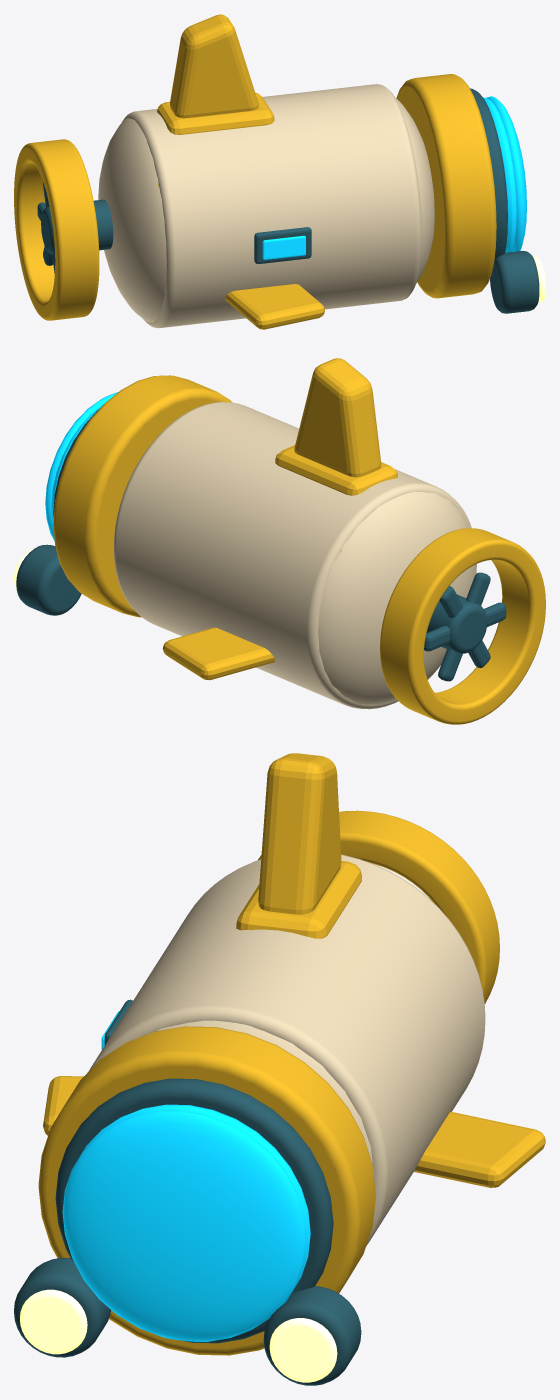
File: submarine.glb
The picture shows the model from 3 angles, top to bottom: view 1: azimuth 30°, elevation 25°; view 2: azimuth 150°, elevation 25°; view 3: azimuth 270°, elevation 25°; orthographic projection. The views are drawn at different scales.
Parts seen in each view (by area): view 1: Submarine main hull, Nose rim, Open propeller duct, Rounded stern, Swept dorsal fin, Side fin, Lamp housing, Top fin pedestal, Rounded bow, Window frame, Domed glass, Cyan window (+3 smaller); view 2: Submarine main hull, Open propeller duct, Nose rim, Rounded stern, Swept dorsal fin, Side fin.001, Lamp housing.001, Top fin pedestal, Propeller shaft, Domed glass, Propeller blade.001, Propeller blade (+1 smaller); view 3: Submarine main hull, Domed glass, Nose rim, Swept dorsal fin, Window frame, Open propeller duct, Side fin.001, Lamp housing.001, Top fin pedestal, Lamp lens, Lamp lens.001, Lamp housing (+3 smaller).
Part boxes in pixels (box(x1,y1,x2,y2)): Submarine main hull: box(121, 84, 421, 328); Nose rim: box(396, 74, 496, 298); Open propeller duct: box(14, 139, 99, 320); Rounded stern: box(98, 118, 166, 322); Swept dorsal fin: box(170, 14, 258, 118); Side fin: box(225, 284, 324, 329); Lamp housing: box(490, 251, 539, 313); Top fin pedestal: box(157, 93, 274, 134); Rounded bow: box(395, 97, 434, 283); Window frame: box(470, 88, 507, 260); Domed glass: box(486, 96, 526, 251); Cyan window: box(483, 97, 516, 252); Submarine main hull: box(114, 402, 476, 709); Open propeller duct: box(380, 528, 545, 724); Nose rim: box(53, 375, 232, 617); Rounded stern: box(318, 491, 476, 704); Swept dorsal fin: box(294, 358, 381, 477); Side fin.001: box(162, 627, 274, 680); Lamp housing.001: box(16, 544, 81, 615); Top fin pedestal: box(275, 445, 397, 495); Propeller shaft: box(426, 594, 487, 653); Domed glass: box(45, 392, 118, 540); Propeller blade.001: box(438, 572, 490, 681); Propeller blade: box(424, 602, 506, 651); Submarine main hull: box(89, 854, 485, 1245); Domed glass: box(62, 1110, 306, 1341); Nose rim: box(38, 1026, 375, 1355); Swept dorsal fin: box(258, 753, 341, 914); Window frame: box(55, 1078, 333, 1343); Open propeller duct: box(258, 810, 499, 1003); Side fin.001: box(414, 1111, 545, 1187); Lamp housing.001: box(263, 1286, 361, 1385); Top fin pedestal: box(236, 861, 361, 938); Lamp lens: box(20, 1289, 87, 1354); Lamp lens.001: box(269, 1318, 337, 1382); Lamp housing: box(14, 1258, 110, 1357).
Bounding box in the file's own units: 3.72 × 2.26 × 2.47.
